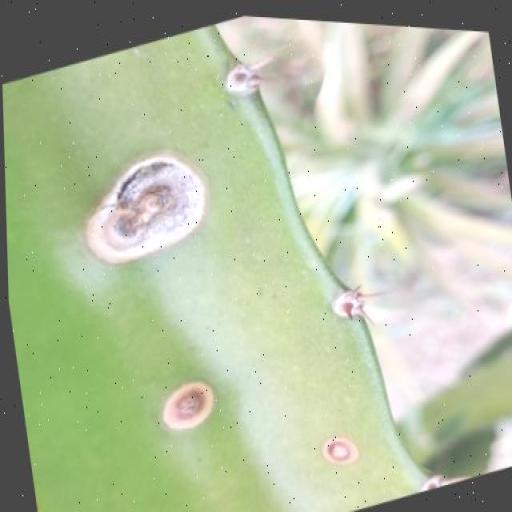stemcanker: (306, 412, 369, 490)
